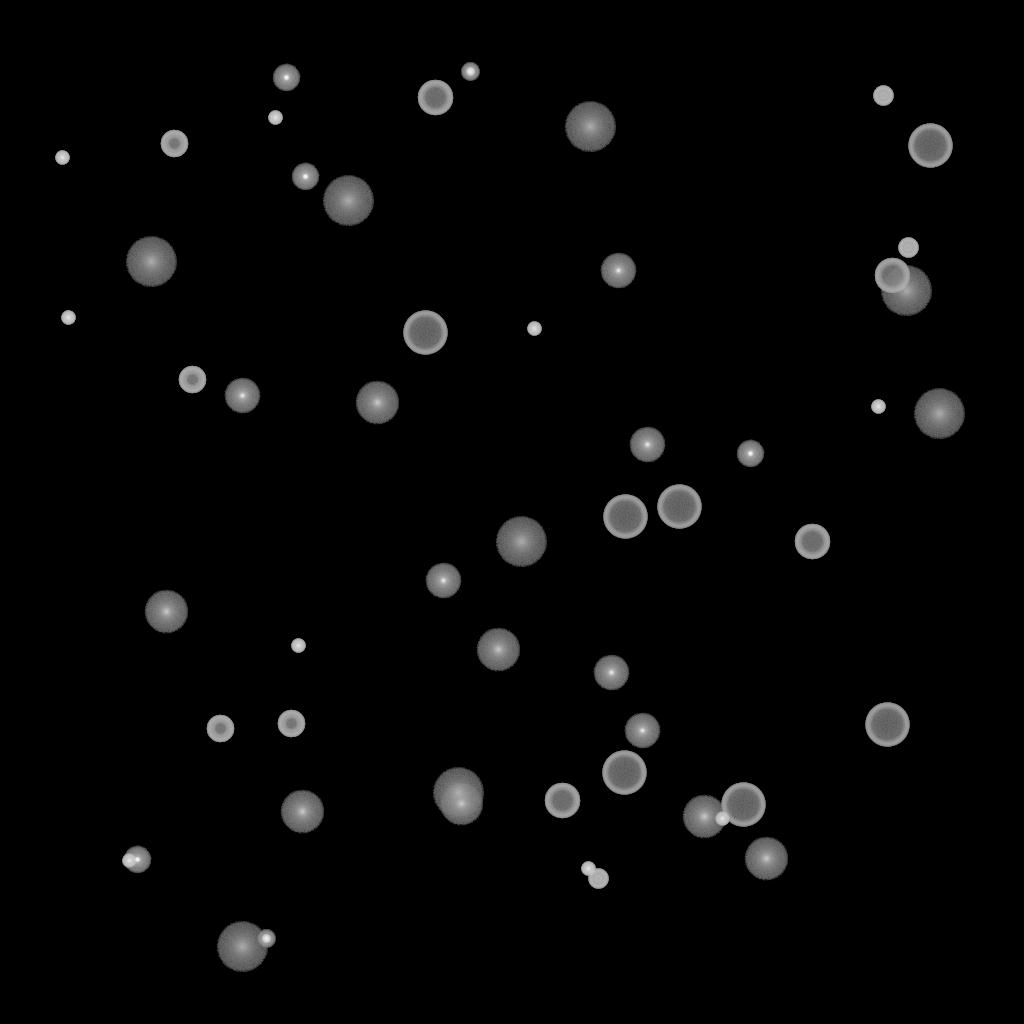depth:-10: (291, 163, 319, 191), (123, 846, 151, 874), (272, 64, 300, 92), (736, 440, 764, 468)
depth:-20: (257, 930, 275, 948), (461, 63, 479, 81)
depth:-30: (527, 322, 541, 336), (291, 639, 305, 653), (268, 111, 282, 125), (581, 862, 595, 876), (715, 812, 729, 826), (61, 311, 75, 325), (55, 151, 69, 165), (871, 400, 885, 414), (122, 854, 136, 868)
depth:-40: (873, 86, 893, 106), (898, 238, 918, 258), (588, 869, 608, 889)
depth:-50: (160, 130, 188, 158), (178, 366, 206, 394), (206, 715, 234, 743), (277, 710, 305, 738)
depth:-60: (794, 524, 830, 560), (874, 258, 910, 294), (544, 783, 580, 819), (417, 80, 453, 116)
depth:-70: (403, 311, 447, 355), (908, 124, 952, 168), (657, 485, 701, 529), (721, 783, 765, 827), (603, 495, 647, 539), (602, 751, 646, 795), (865, 703, 909, 747)
depth:0: (629, 427, 665, 463), (600, 253, 636, 289), (425, 563, 461, 599), (593, 655, 629, 691), (624, 713, 660, 749), (224, 378, 260, 414)
depth:10: (144, 590, 188, 634), (682, 795, 726, 839), (355, 381, 399, 425), (744, 837, 788, 881), (280, 790, 324, 834), (476, 628, 520, 672), (439, 782, 483, 826)
depth:20: (432, 768, 484, 818), (495, 517, 547, 567), (216, 922, 268, 972), (125, 237, 177, 287), (913, 389, 965, 439), (322, 176, 374, 226), (564, 102, 616, 152), (880, 266, 932, 316)
